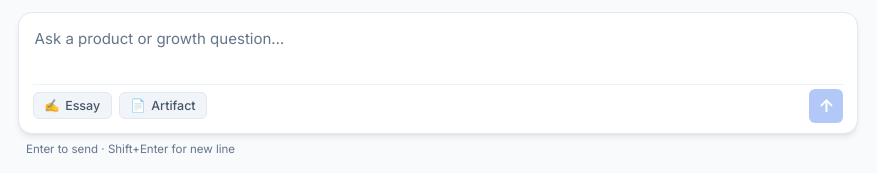
Composer - Artifact Mode › pressing Escape cancels Artifact Mode
Click the button with aria-label "generate an artifact": {"x": 163, "y": 106} 119,92 -> 207,119
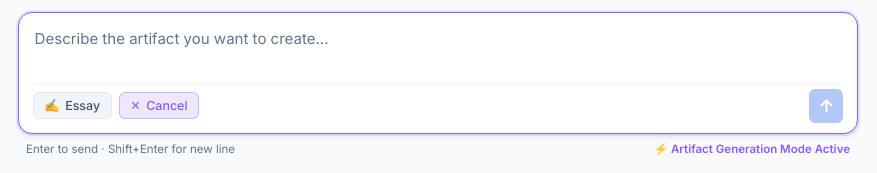
Press Escape in the text box with placeholder "Describe the artifact you want to create...", box 33,25 -> 843,76
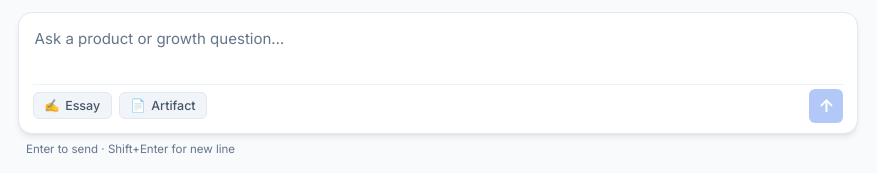
Now the text box with placeholder "Ask a product or growth question…" is shown, box 33,25 -> 843,76
